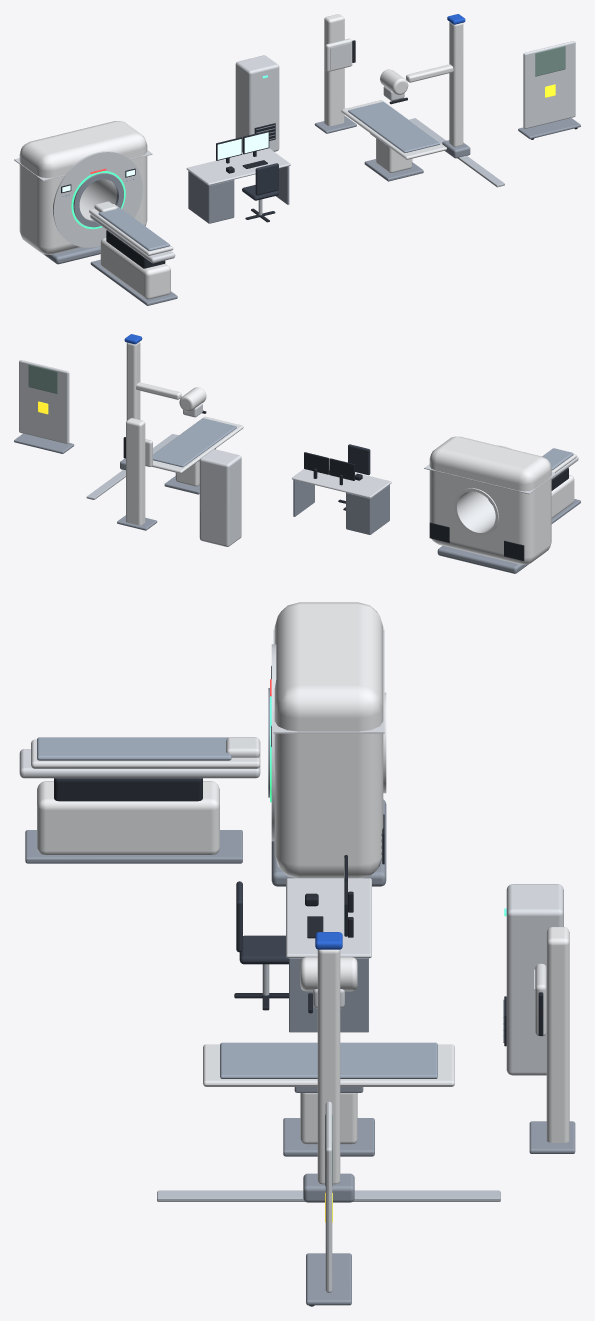
File: imaging.glb
3 renders of one model, top to bottom at view 1: azimuth 30°, elevation 25°; view 2: azimuth 150°, elevation 25°; view 3: azimuth 270°, elevation 25°, orthographic. The views are drawn at different scales.
Parts seen in each view (by area): view 1: ct_scanner_body, xray_room_base, ct_console_body, lead_screen_body, xray_room_column, ct_scanner_table, xray_room_tube, xray_room_detector; view 2: ct_scanner_body, xray_room_base, ct_console_body, lead_screen_body, xray_room_column, xray_room_tube, ct_scanner_table; view 3: ct_scanner_body, xray_room_base, ct_console_body, ct_scanner_table, xray_room_column, lead_screen_body, xray_room_tube, xray_room_detector.
Part boxes in pixels (x1,y1,x2,y2): ct_scanner_body: (14,121,177,305); xray_room_base: (235,14,504,187); ct_console_body: (186,130,290,223); lead_screen_body: (518,41,580,139); xray_room_column: (442,14,470,158); ct_scanner_table: (89,201,173,255); xray_room_tube: (380,64,453,104); xray_room_detector: (325,38,355,71); ct_scanner_body: (424,436,580,573); xray_room_base: (86,416,243,546); ct_console_body: (292,444,391,534); lead_screen_body: (14,360,74,453); xray_room_column: (120,334,142,470); xray_room_tube: (136,382,206,417); ct_scanner_table: (542,448,576,472); ct_scanner_body: (19,602,386,886); xray_room_base: (157,884,575,1201); ct_console_body: (234,855,371,1032); ct_scanner_table: (31,737,260,768); xray_room_column: (303,932,354,1202); lead_screen_body: (306,1101,351,1306); xray_room_tube: (300,957,357,1013); xray_room_detector: (534,963,546,1036).
Size of the model in its own units: 10.56 by 2.52 by 4.85.
